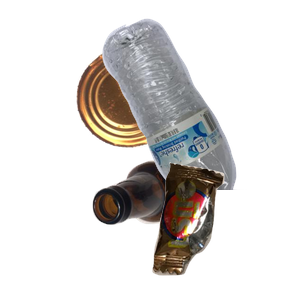glass: (90, 148, 300, 300)
metal: (74, 41, 229, 181)
plastic: (100, 16, 300, 196)
trash: (150, 160, 300, 300)
